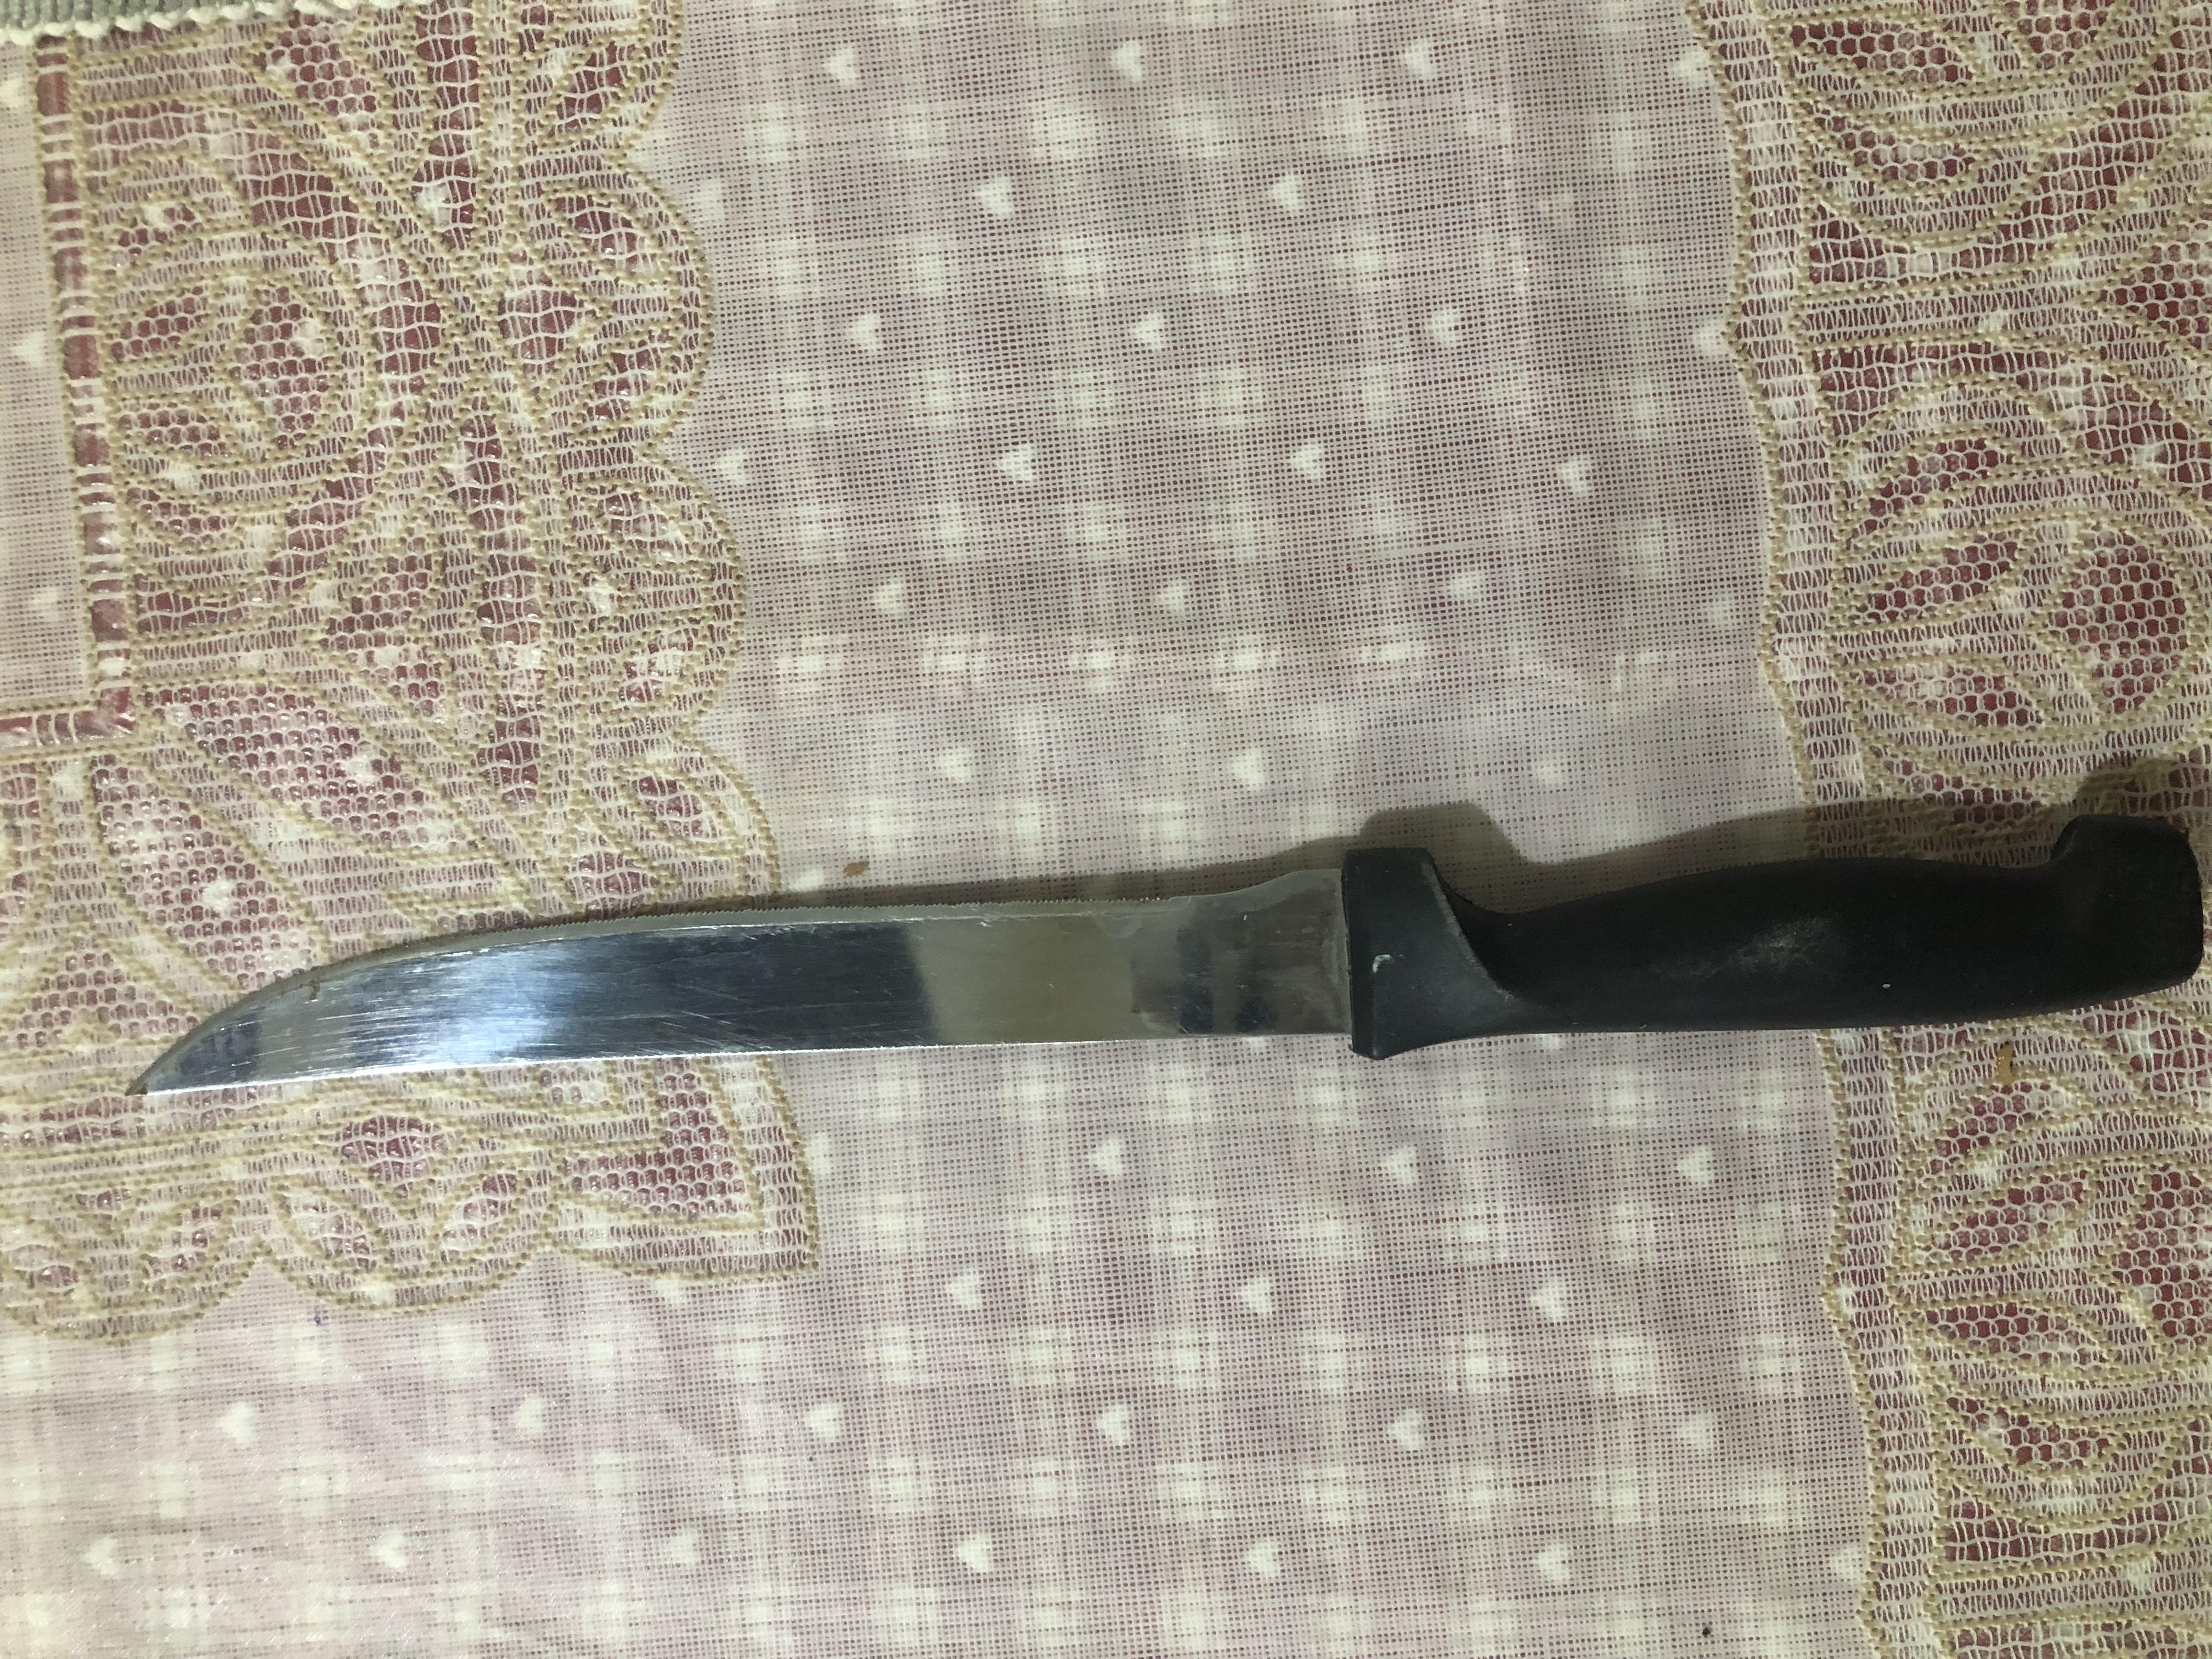weapon: (752, 99, 1136, 1659)
